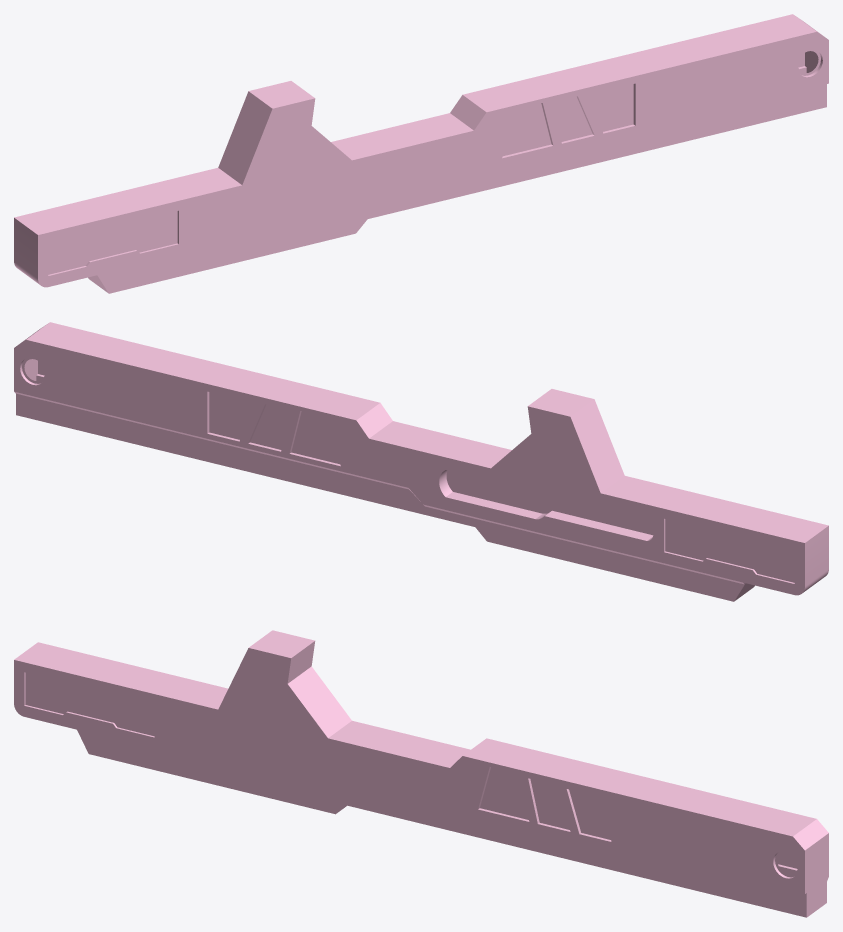
Rendered from Wonderland_part1.fbx.
3 views of the same model, one above another, from view 1: azimuth 30°, elevation 25°; view 2: azimuth 150°, elevation 25°; view 3: azimuth 330°, elevation 25° (orthographic).
Visible parts, largest first — view 1: Material2.007; view 2: Material2.007; view 3: Material2.007.
Boxes of the visible parts, x1,y1,x2,y2 form: Material2.007: (14,14,828,293); Material2.007: (14,322,828,601); Material2.007: (14,630,828,917).
Size of the model in its own units: 0.0131 by 0.00233 by 0.000691.
